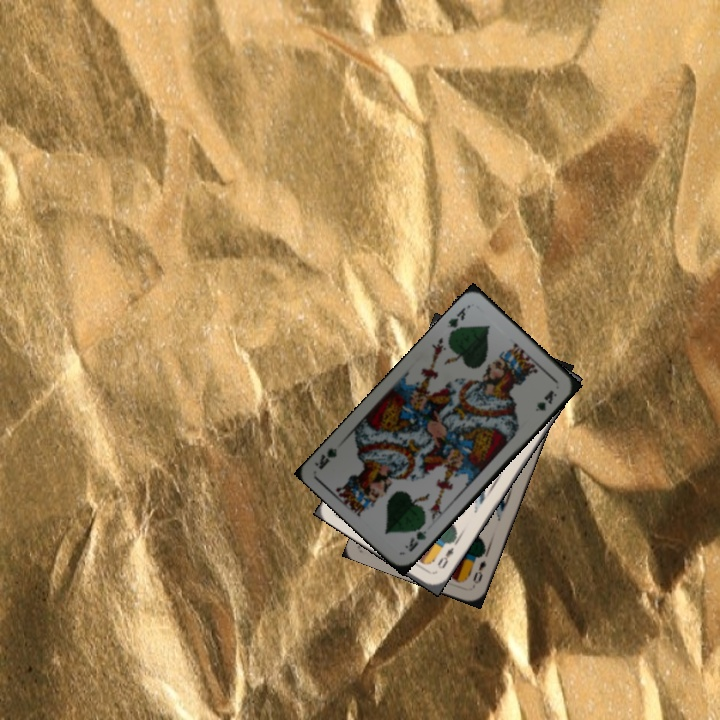EO: (433, 543, 457, 572), (469, 556, 489, 586)
GK: (401, 519, 429, 554), (442, 304, 468, 338)
